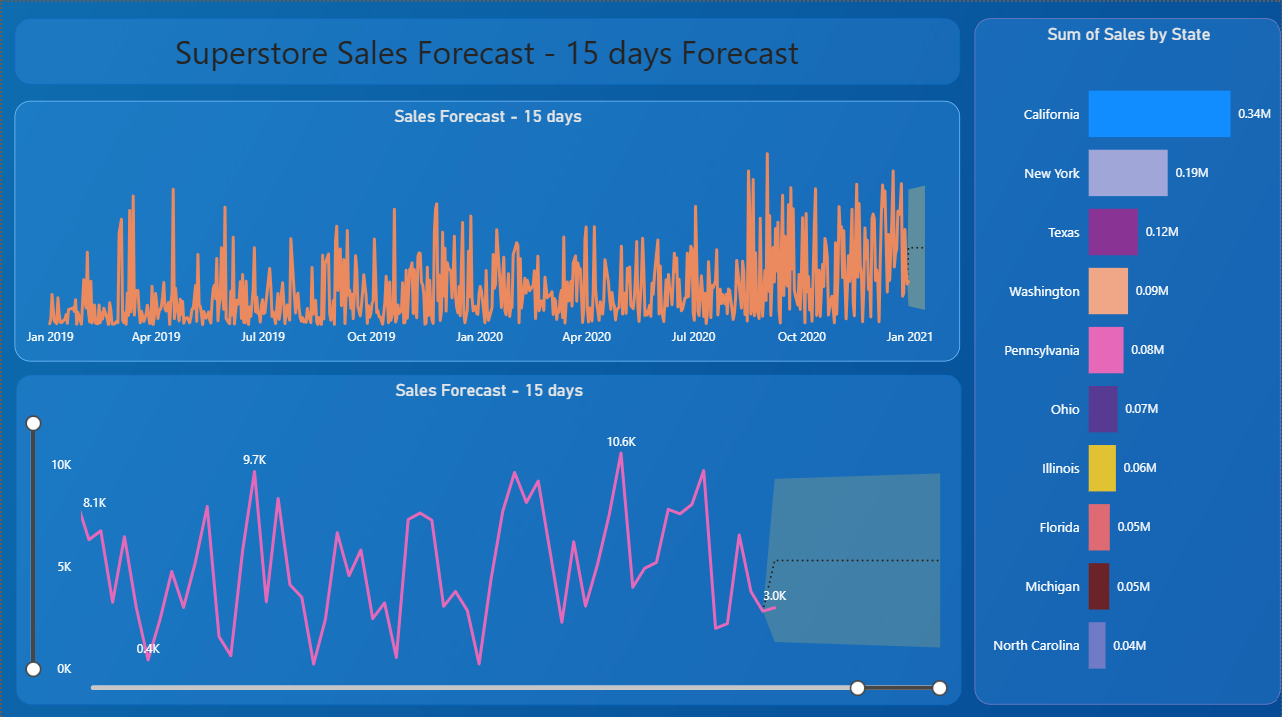

What the dashboard file says about the page in this screenshot:
{"tool":"powerbi","page":{"name":"Sales Forecast","canvas":[1280,720],"ordinal":1},"visuals":[{"type":"lineChart","title":"Sales Forecast - 15 days","fields":{"Category":["SuperStore Sales Dataset.Order Date"],"Y":["Sum(SuperStore Sales Dataset.Sales)"]},"box":[12.2,99,945.2,260.5],"z":0},{"type":"lineChart","title":"Sales Forecast - 15 days","fields":{"Category":["SuperStore Sales Dataset.Order Date"],"Y":["Sum(SuperStore Sales Dataset.Sales)"]},"box":[13.5,373,945.2,330.2],"z":1},{"type":"textbox","box":[12.2,15.9,945.2,66],"z":2},{"type":"clusteredBarChart","fields":{"Category":["SuperStore Sales Dataset.State"],"Y":["Sum(SuperStore Sales Dataset.Sales)"]},"box":[972.5,16.2,307.5,686.2],"z":3}]}

Visuals, with their boxes in screenshot pixels (x1, y1, x2, y2), scaled from the page's 1280x720 canvas onto the 1282x717 screenshot:
"Sales Forecast - 15 days" lineChart: bbox(12, 99, 959, 358)
"Sales Forecast - 15 days" lineChart: bbox(14, 371, 960, 700)
textbox: bbox(12, 16, 959, 82)
clusteredBarChart - SuperStore Sales Dataset.State x Sum(SuperStore Sales Dataset.Sales): bbox(974, 16, 1281, 699)
